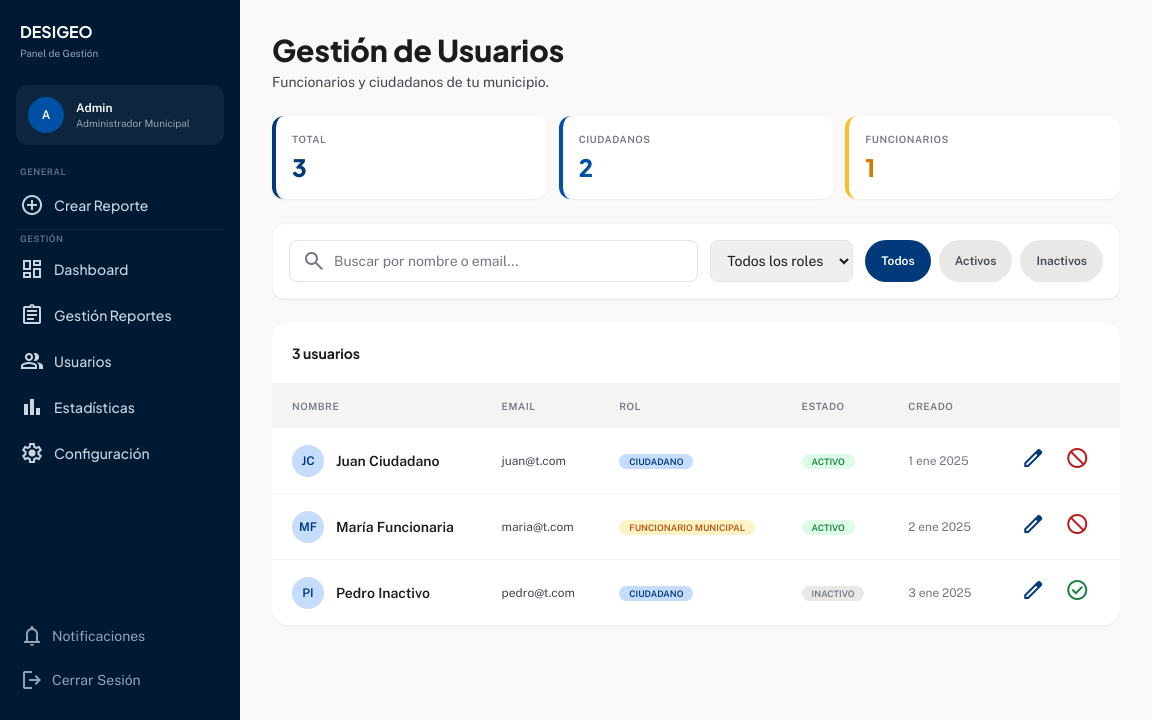
Scenario: CP-ADMIN — Gestión de Usuarios › CP-ADMIN-002: botón editar abre modal de cambio de rol
The width and height of the screenshot is (1152, 720).
Expected: the text "Juan Ciudadano" is shown, [336, 450, 440, 470]
Click the 1st button titled "Cambiar rol" at coordinates (1033, 460), box [1015, 440, 1051, 481]
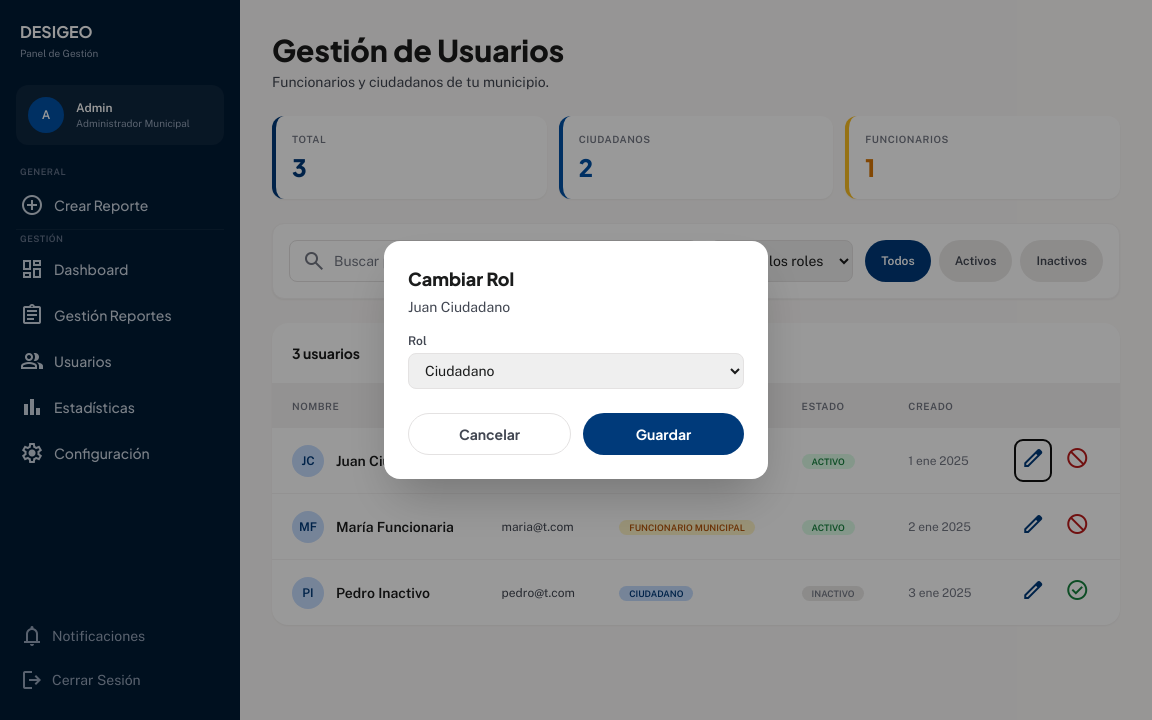
Expected: the heading "Cambiar Rol" is shown, [408, 267, 514, 290]
